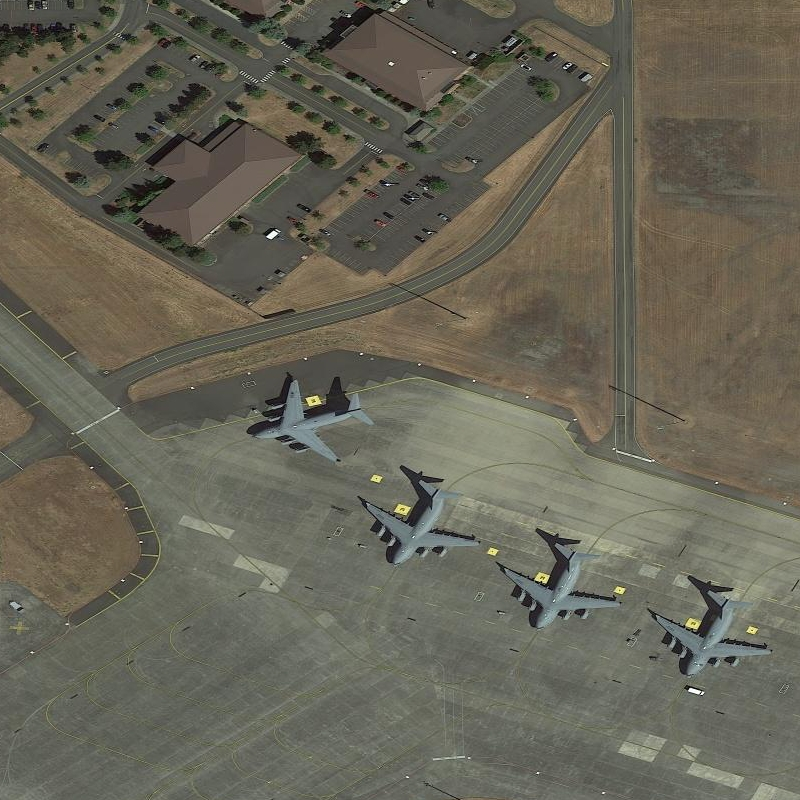A3: (497, 529, 628, 634), (239, 372, 378, 468), (649, 582, 779, 680), (358, 470, 480, 572)
